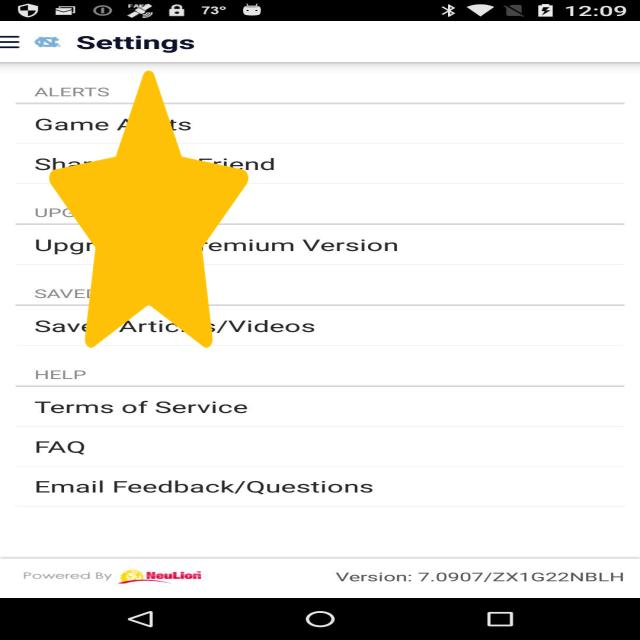forced continuity: (49, 70, 248, 348)
